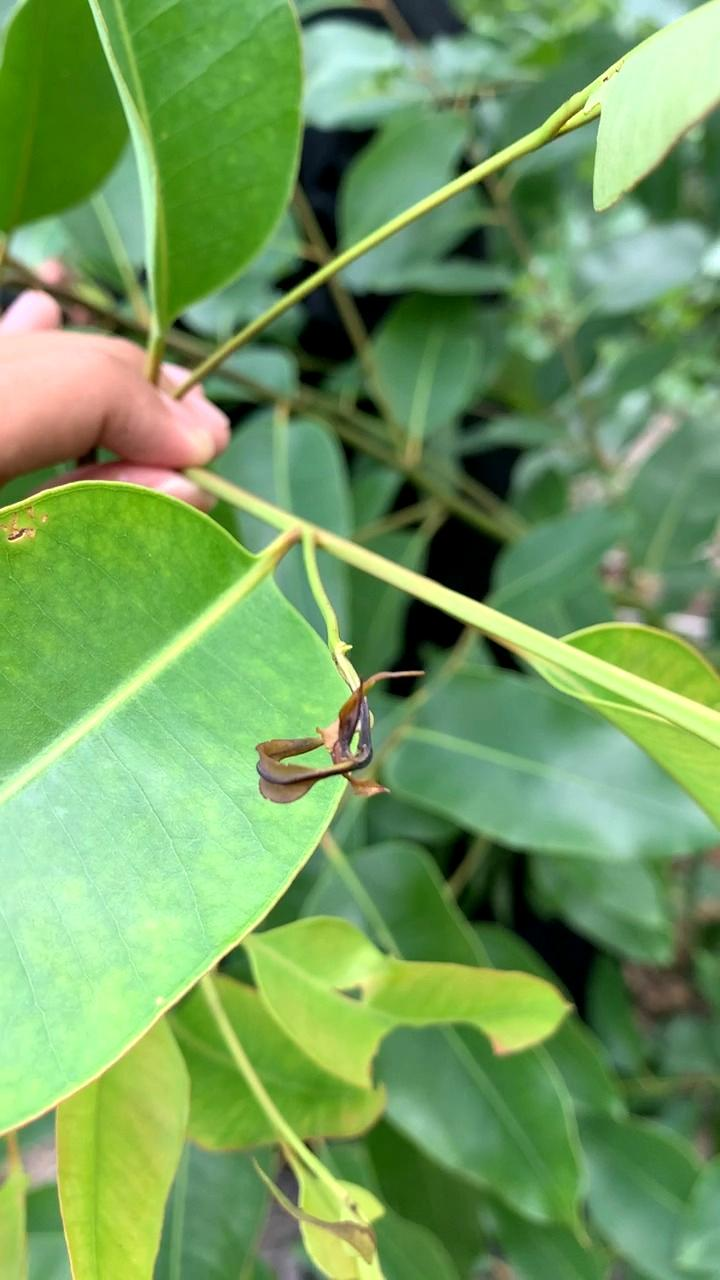Helopeltis-Withered Sprout: (266, 665, 433, 811)
